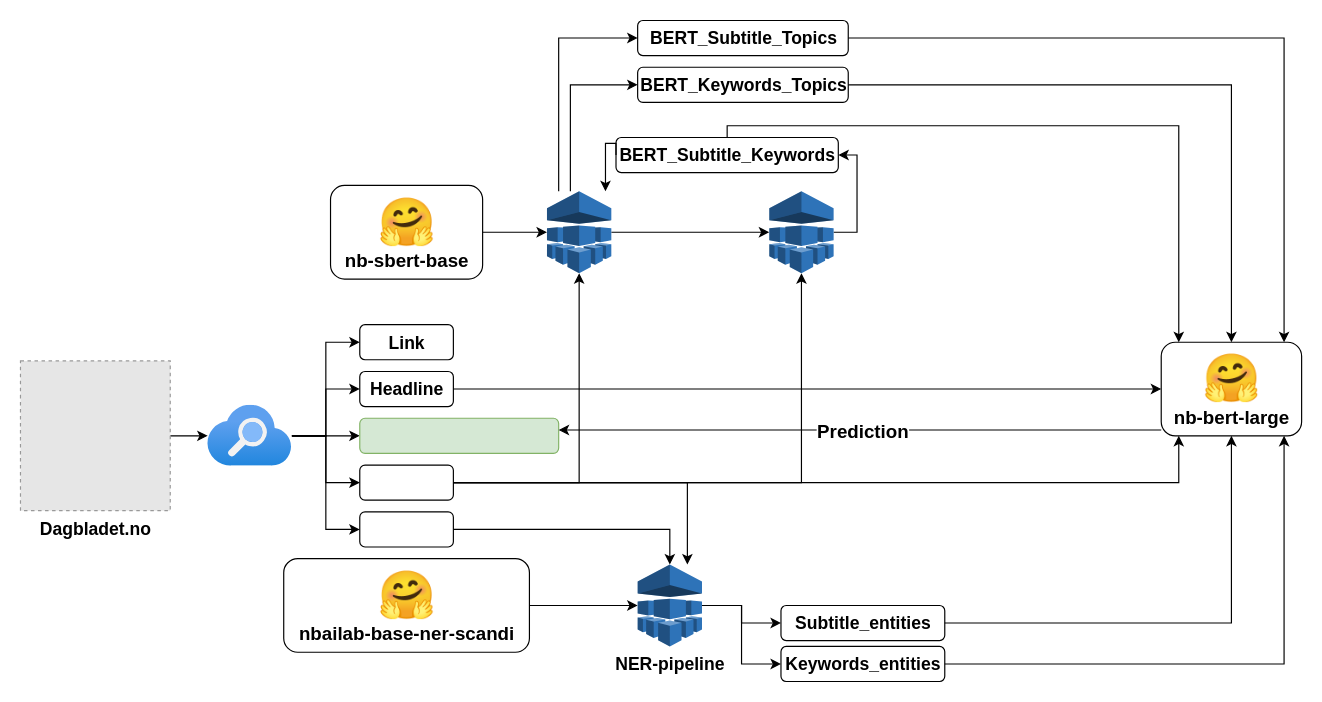
The diagram is 1322 pixels wide and 702 high, and some of its shapes have lost their labels. Grey dashed boxes stand in for pictures. The centre of each missing label's shape, as x and y in pixels:
"BERTopic" goes at (x=578, y=231).
"Category (TARGET)" goes at (x=459, y=435).
"KeyBERT" goes at (x=801, y=231).
"Keywords" goes at (x=406, y=529).
"Subtitle" goes at (x=406, y=482).
"Web-Scraper" goes at (x=249, y=435).
